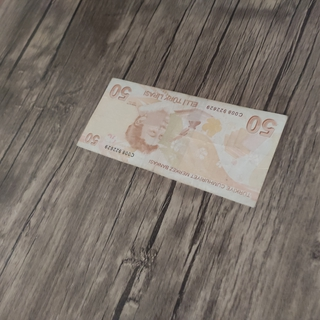50TLBack: (75, 76, 289, 208)
